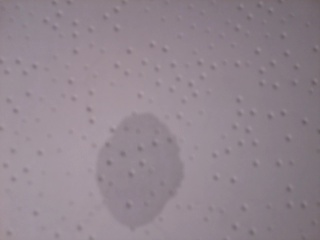Water_detected: (103, 129, 170, 209)
